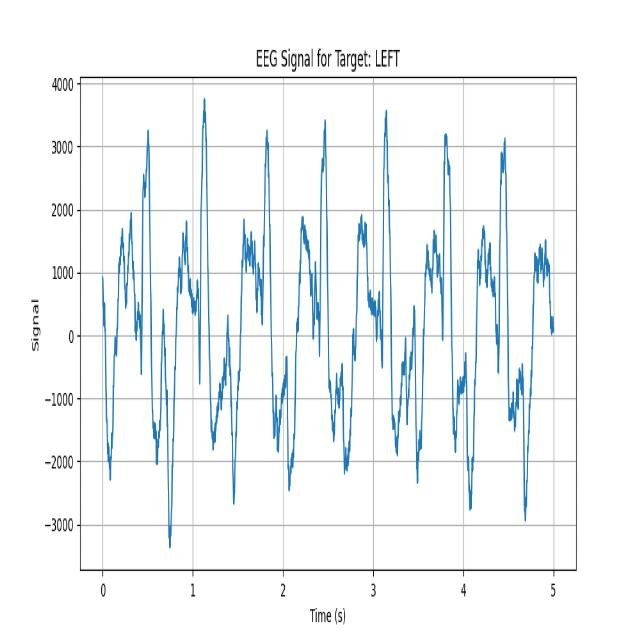LEFT: (114, 119, 184, 551), (362, 95, 428, 540), (185, 105, 250, 551), (428, 95, 491, 541), (304, 96, 362, 547), (250, 98, 303, 543), (493, 95, 541, 539)
